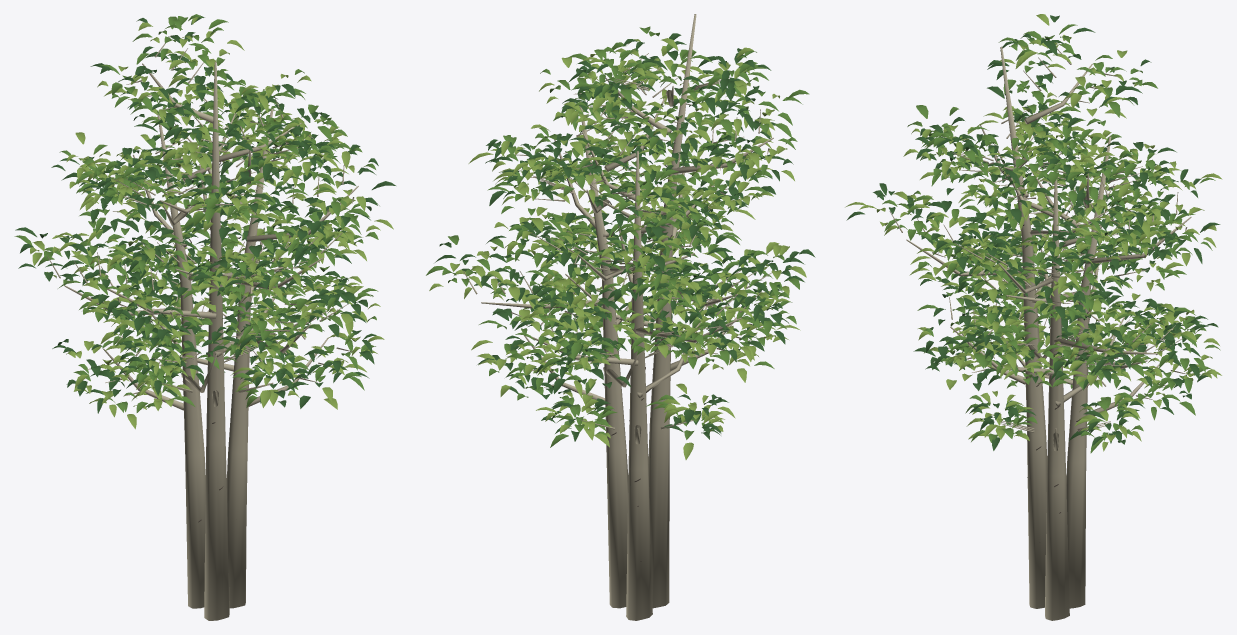
Rendered from sc_aspen_grove.glb.
3 renders of one model, left to right at view 1: azimuth 30°, elevation 25°; view 2: azimuth 150°, elevation 25°; view 3: azimuth 270°, elevation 25°, orthographic. The views are drawn at different scales.
Visible parts, largest first — view 1: sc_aspen_grove; view 2: sc_aspen_grove; view 3: sc_aspen_grove.
Part boxes in pixels (x1=…): sc_aspen_grove: x1=14, y1=14, x2=395, y2=620; sc_aspen_grove: x1=426, y1=14, x2=815, y2=620; sc_aspen_grove: x1=845, y1=14, x2=1222, y2=620.
Bounding box in the file's own units: 5.4 × 9.11 × 5.71.
